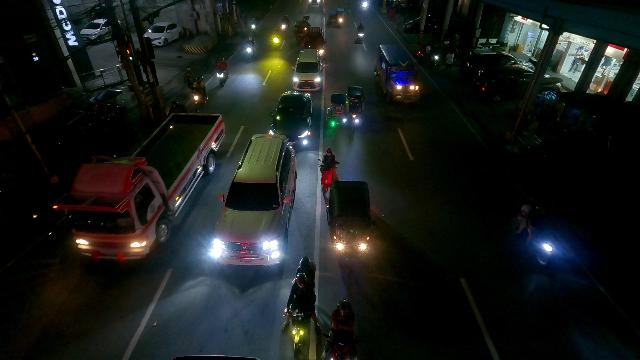car: (210, 132, 299, 267), (268, 91, 314, 147), (291, 48, 323, 92), (79, 18, 122, 44)
jeepney: (376, 43, 424, 105)
motorcycle: (191, 76, 208, 113), (214, 57, 229, 90), (245, 35, 257, 62), (270, 28, 284, 50), (281, 13, 290, 33), (356, 21, 365, 38), (249, 18, 257, 31)
truck: (66, 109, 225, 260)
